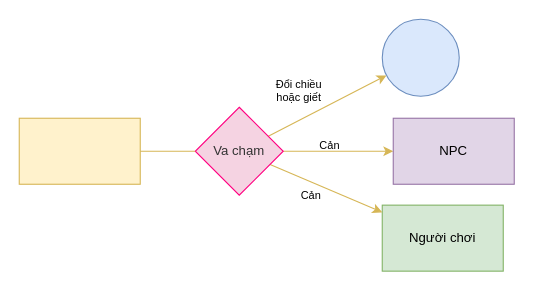
Some shapes in this 534 by 290 pixel diagram are drawn without their labels. Here are the shapes that lost their labels. From the top down, the box of each, then its label:
(381, 18, 459, 96): Viên đạn
(18, 117, 140, 184): Vật cản
